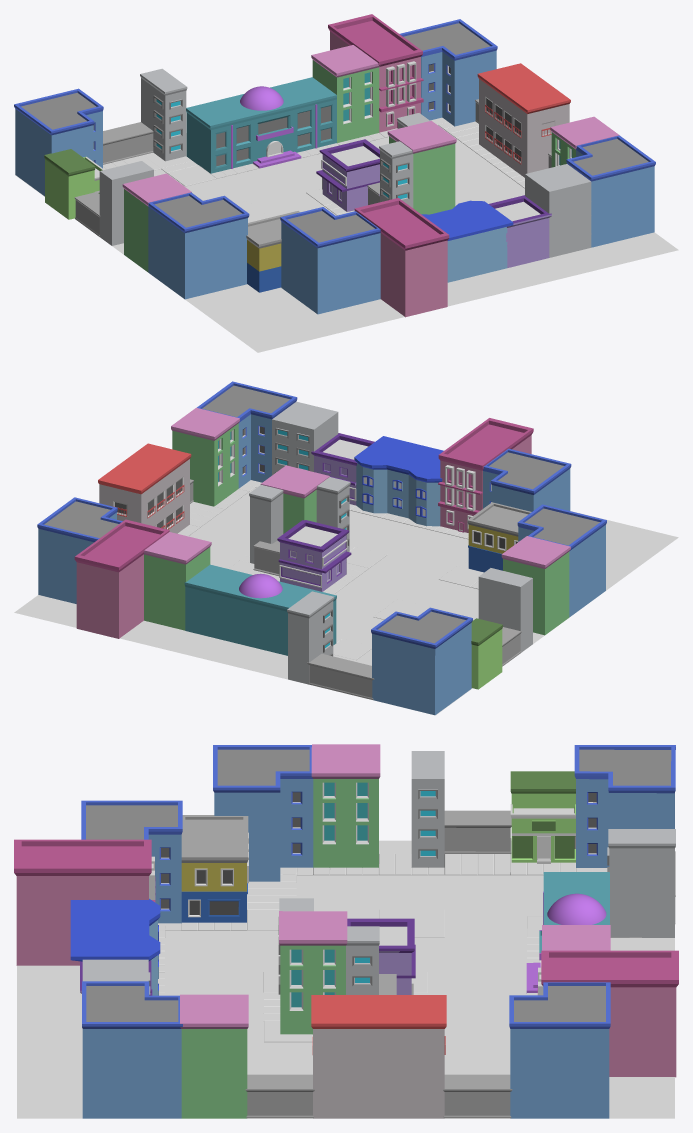
The model's file is finalcity.fbx.
3 renders of one model, top to bottom at view 1: azimuth 30°, elevation 25°; view 2: azimuth 150°, elevation 25°; view 3: azimuth 270°, elevation 25°, orthographic. The views are drawn at different scales.
Parts seen in each view (by area): view 1: Plane, Cube.030, Cube.046, Cube.003, Cube.036, Cube.045, Cube.040, Cube.035, Cube.002, Cube.048, Cube.032, Cube.044 (+18 smaller); view 2: Plane, Cube.002, Cube.048, Cube.030, Cube.044, Cube.036, Cube.045, Cube.035, Cube.003, Cube.037, Cube.032, Cube.040 (+22 smaller); view 3: Plane, Cube.036, Cube.035, Cube.040, Cube.045, Cube.048, Cube.003, Cube.002, Cube.037, Cube.005, Cube.006, Cube.033 (+29 smaller).
Boxes of the visible parts, box(x1,y1,x2,y2) form: Plane: box(15, 133, 678, 352); Cube.030: box(186, 77, 336, 173); Cube.046: box(280, 207, 380, 314); Cube.003: box(148, 192, 249, 299); Cube.036: box(477, 63, 570, 177); Cube.045: box(354, 198, 449, 317); Cube.040: box(566, 135, 655, 247); Cube.035: box(400, 19, 497, 126); Cube.002: box(14, 88, 103, 196); Cube.048: box(328, 14, 423, 132); Cube.032: box(311, 45, 380, 142); Cube.044: box(421, 200, 513, 282); Plane: box(14, 502, 678, 715); Cube.002: box(371, 607, 472, 715); Cube.048: box(74, 519, 169, 638); Cube.030: box(184, 564, 336, 655); Cube.044: box(354, 436, 443, 526); Cube.036: box(98, 443, 191, 533); Cube.045: box(438, 418, 533, 532); Cube.035: box(37, 497, 122, 603); Cube.003: box(517, 504, 606, 617); Cube.037: box(171, 407, 239, 506); Cube.032: box(144, 532, 211, 630); Cube.040: box(197, 381, 297, 488); Plane: box(17, 840, 674, 1118); Cube.036: box(311, 995, 446, 1118); Cube.035: box(509, 982, 610, 1118); Cube.040: box(82, 981, 182, 1118); Cube.045: box(14, 839, 155, 965); Cube.048: box(537, 950, 678, 1077); Cube.003: box(213, 745, 313, 881); Cube.002: box(574, 745, 675, 867); Cube.037: box(180, 994, 248, 1118); Cube.005: box(311, 744, 380, 867); Cube.006: box(181, 815, 248, 922); Cube.033: box(607, 829, 675, 937).
Size of the model in its own units: 2036 by 329 by 2021.
